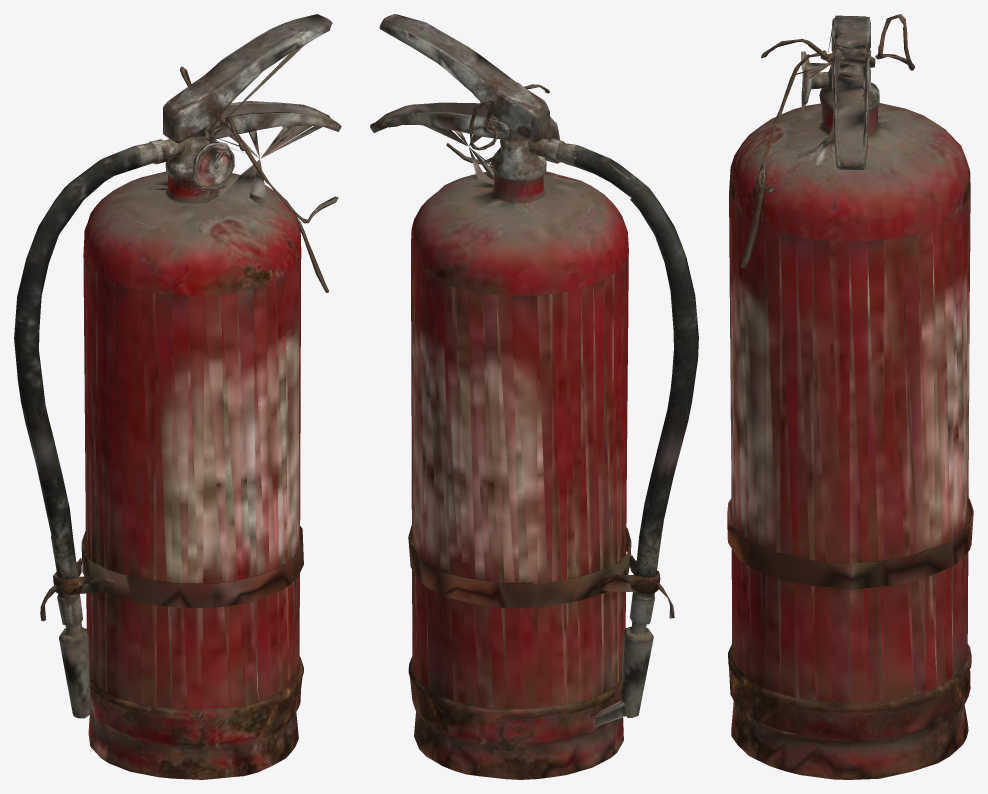
Rendered from extinguisher.glb.
3 renders of one model, left to right at view 1: azimuth 30°, elevation 25°; view 2: azimuth 150°, elevation 25°; view 3: azimuth 270°, elevation 25°, orthographic. The views are drawn at different scales.
Bounding box in the file's own units: 0.4902 × 1 × 0.294.
1 material, 1 textured.
